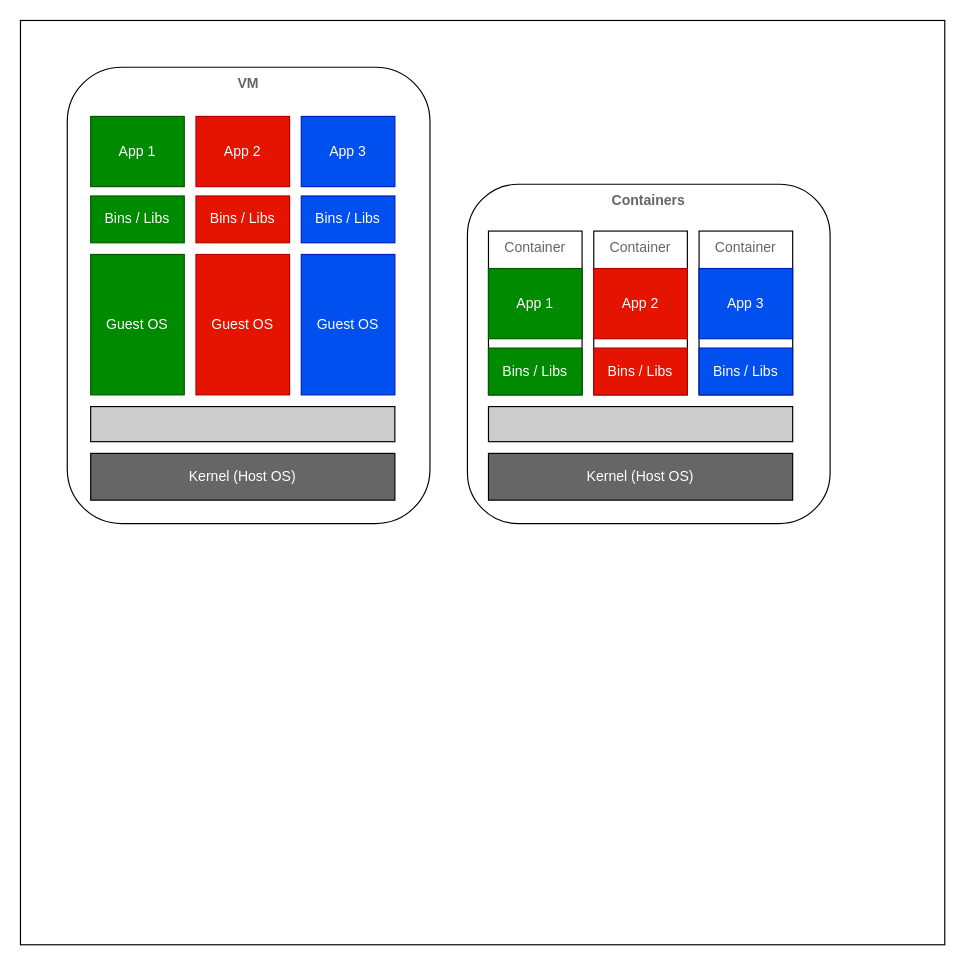
The diagram is 965 pixels wide and 965 high, and some of its shapes have lost their labels. Here are the shapes that lost their labels. From the top down, the centre of each, then its label:
At point 242,423: "Hypervisor".
At point 640,423: "Container Engine".
